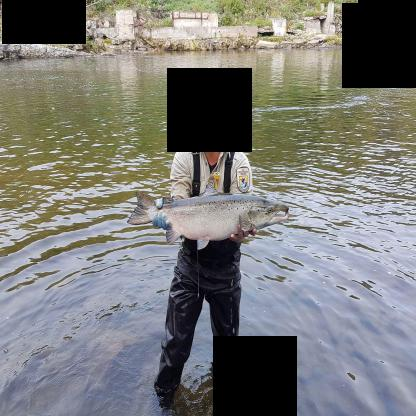fish: (127, 192, 290, 249)
